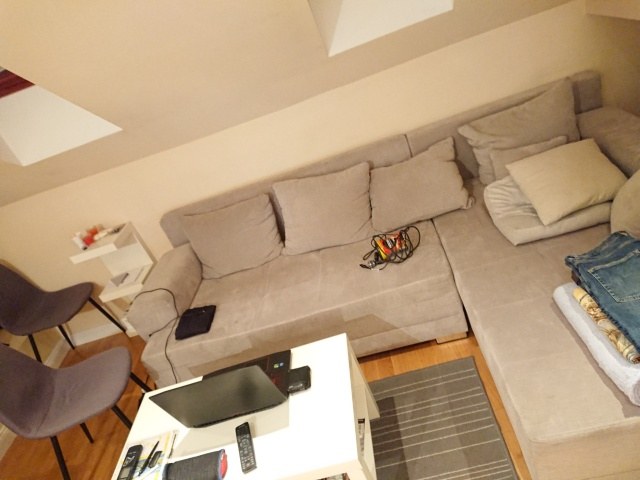Nescafe Classic 225g: (372, 229, 411, 263)
